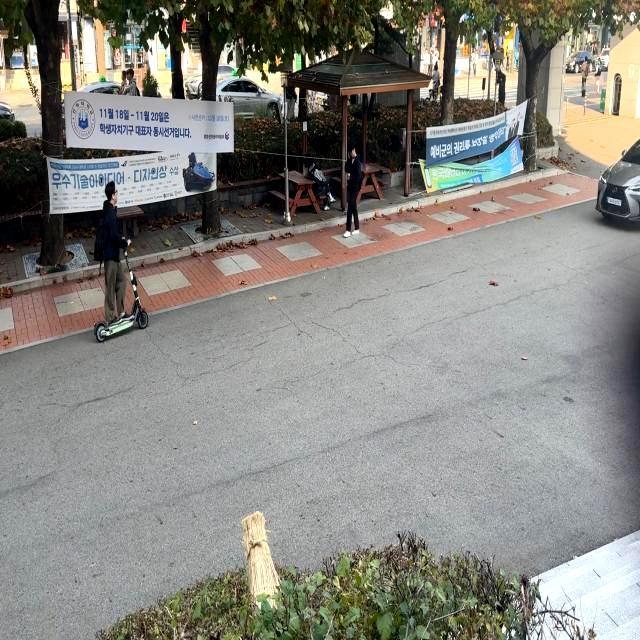bare_head: (102, 182, 126, 205)
human: (97, 178, 129, 318)
kickboard: (77, 311, 172, 343)
